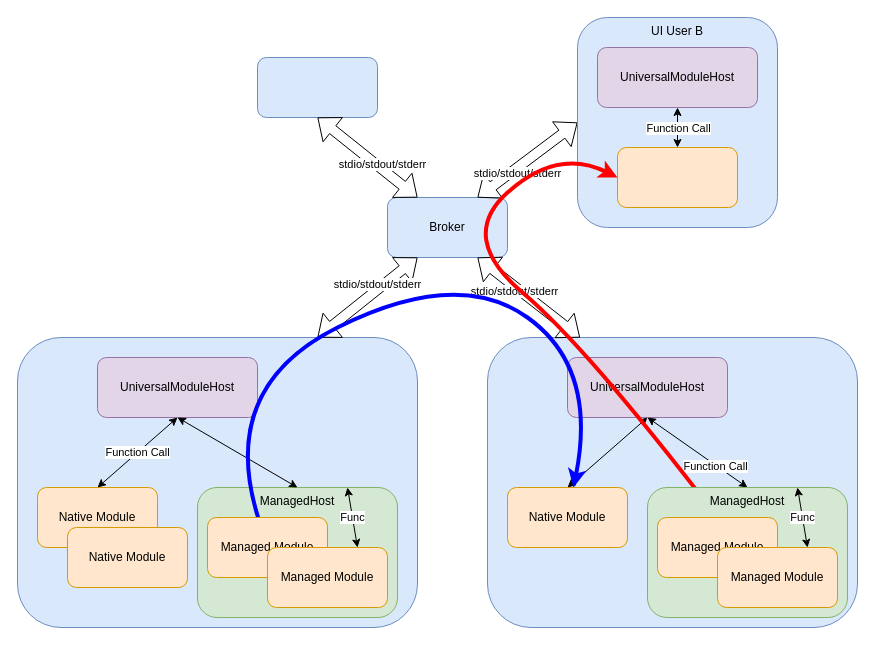
Image size: 875x645. Some labels were removed from this diagram. The shapes that lost their labels are listed below. From the top down, each one's centre as x and y in pixels, then its label:
[317,87]: UI - User A
[677,177]: Managed WPF UI
